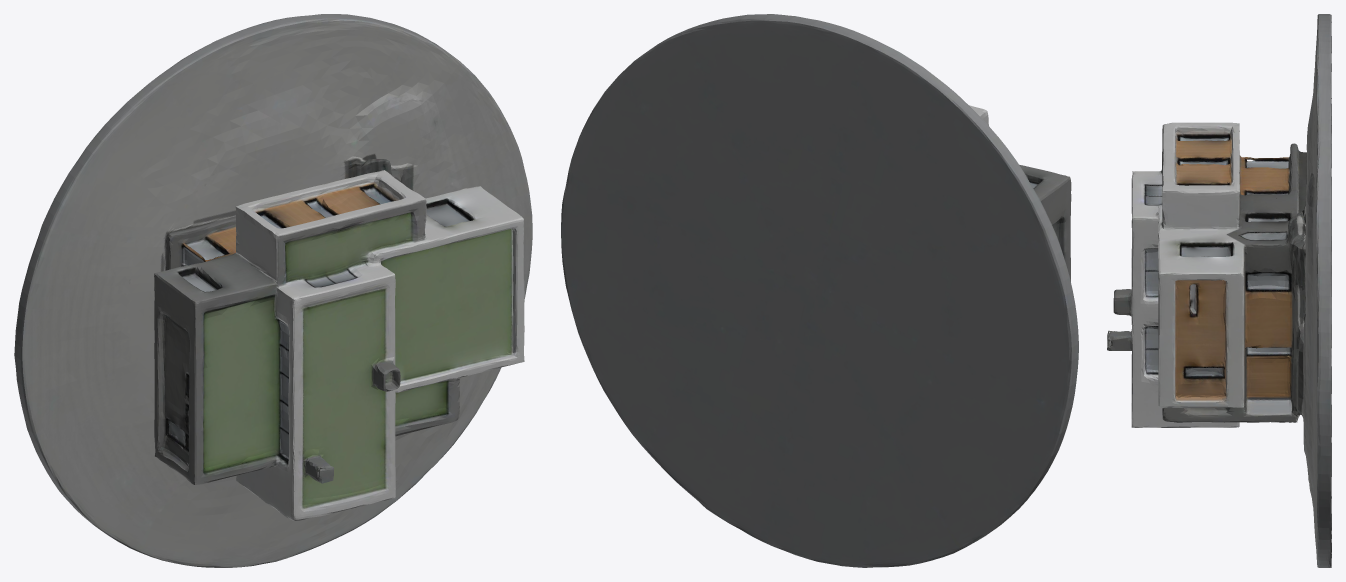
The model's file is house.glb.
3 renders of one model, left to right at view 1: azimuth 30°, elevation 25°; view 2: azimuth 150°, elevation 25°; view 3: azimuth 270°, elevation 25°, orthographic. The views are drawn at different scales.
Visible parts, largest first — view 1: tripo_node_9eb464b7-00fe-487d-b463-4e49edc2b689; view 2: tripo_node_9eb464b7-00fe-487d-b463-4e49edc2b689; view 3: tripo_node_9eb464b7-00fe-487d-b463-4e49edc2b689.
Boxes of the visible parts, box(x1,y1,x2,y2) form: tripo_node_9eb464b7-00fe-487d-b463-4e49edc2b689: box(14, 14, 532, 567); tripo_node_9eb464b7-00fe-487d-b463-4e49edc2b689: box(561, 14, 1078, 567); tripo_node_9eb464b7-00fe-487d-b463-4e49edc2b689: box(1107, 14, 1331, 567).
Bounding box in the file's own units: 0.9995 × 0.9996 × 0.4056.
1 material, 1 textured.
